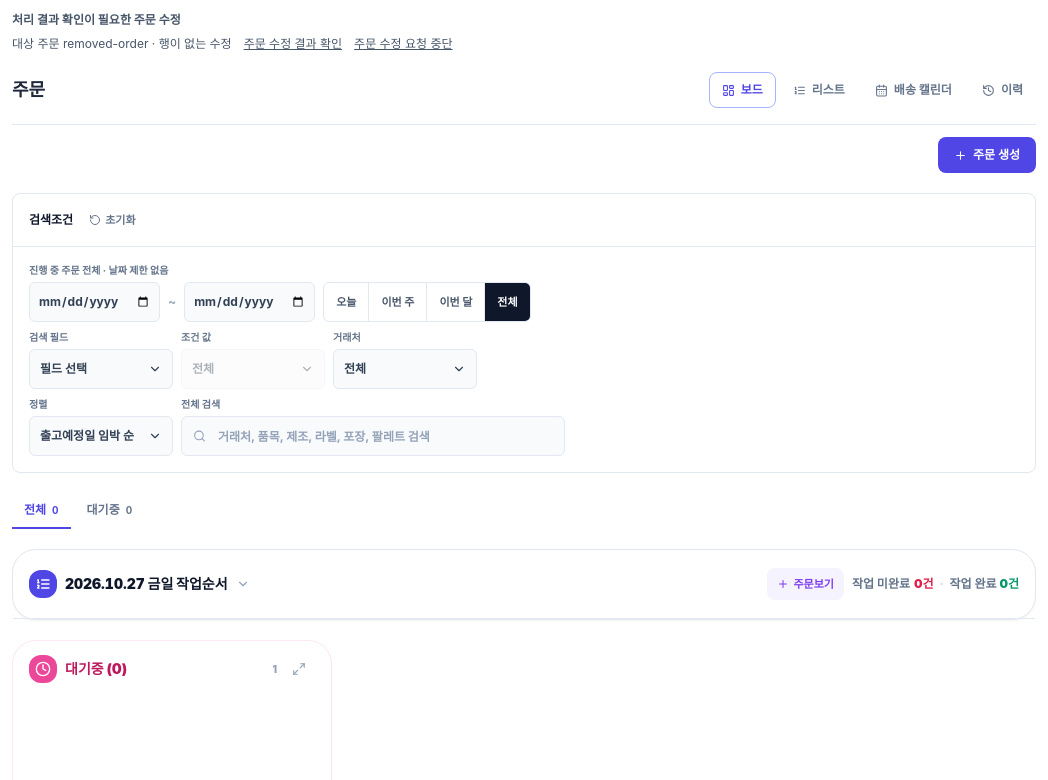
Test case: 실제 주문 행이 없어도 정확한 보관 참조를 중단하고 복구 버튼 대신 중단 결과를 남긴다
expect the element "처리 결과 확인이 필요한 주문 수정" shows "removed-order": met, box x1=12 y1=36 x2=159 y2=51
Click the button "주문 수정 요청 중단". click: (403, 44)
box: x1=354 y1=36 x2=453 y2=52
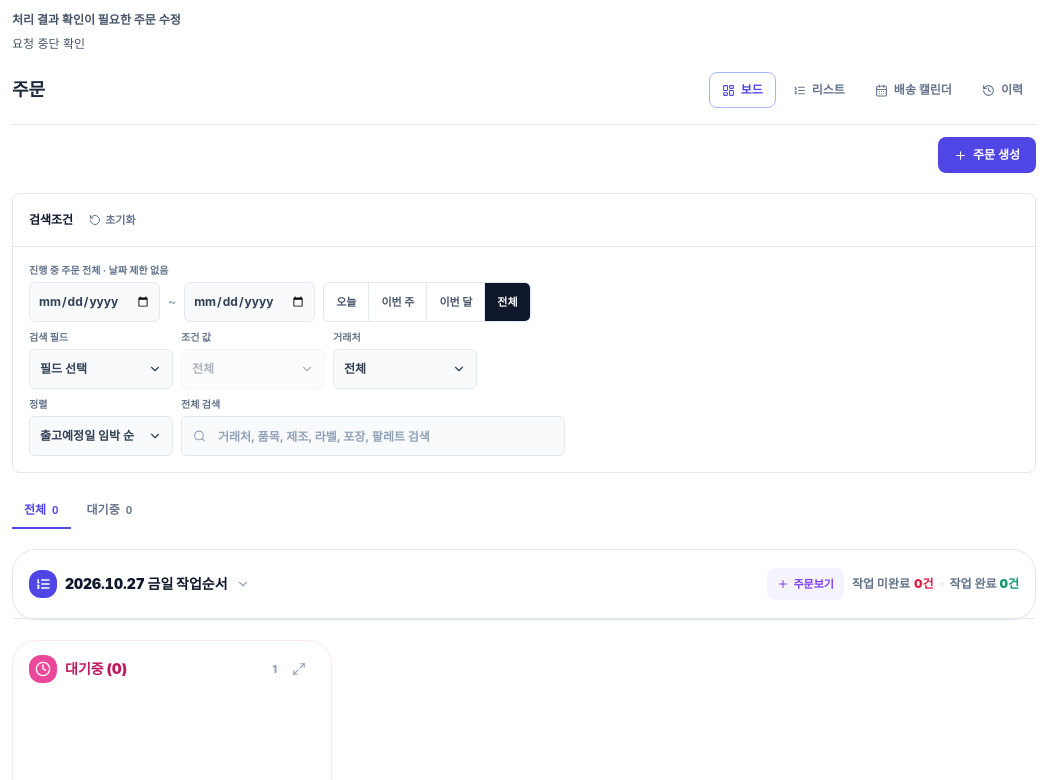
expect the button "주문 수정 결과 확인" is gone: met
expect the element "처리 결과 확인이 필요한 주문 수정" shows "요청 중단 확인": met, box x1=12 y1=36 x2=85 y2=51
